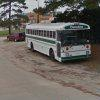Bus: (20, 19, 95, 65)
